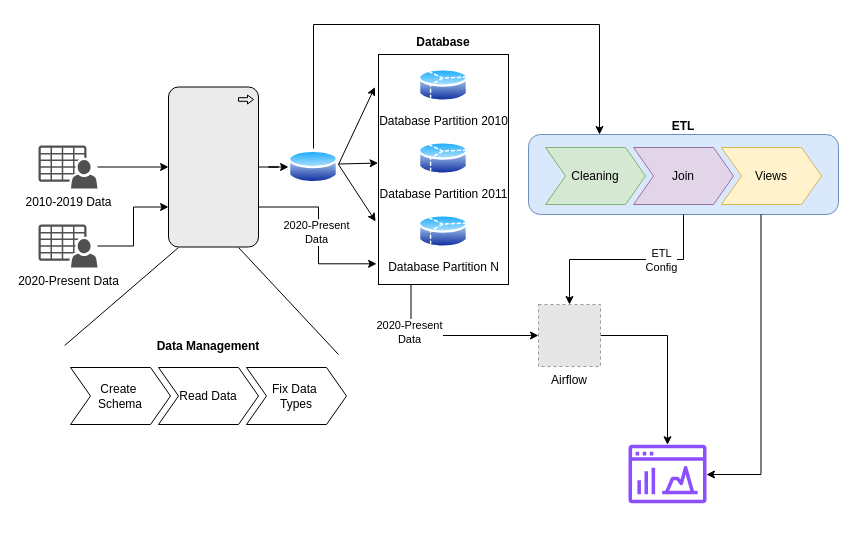
This 856x542 diagram has some shape labels left out. Grey dashed boxes stand in for pictures. Each missing label, with the box of its shape:
Dashboard Report: (628, 444, 706, 503)
Data Managements: (168, 86, 258, 247)
